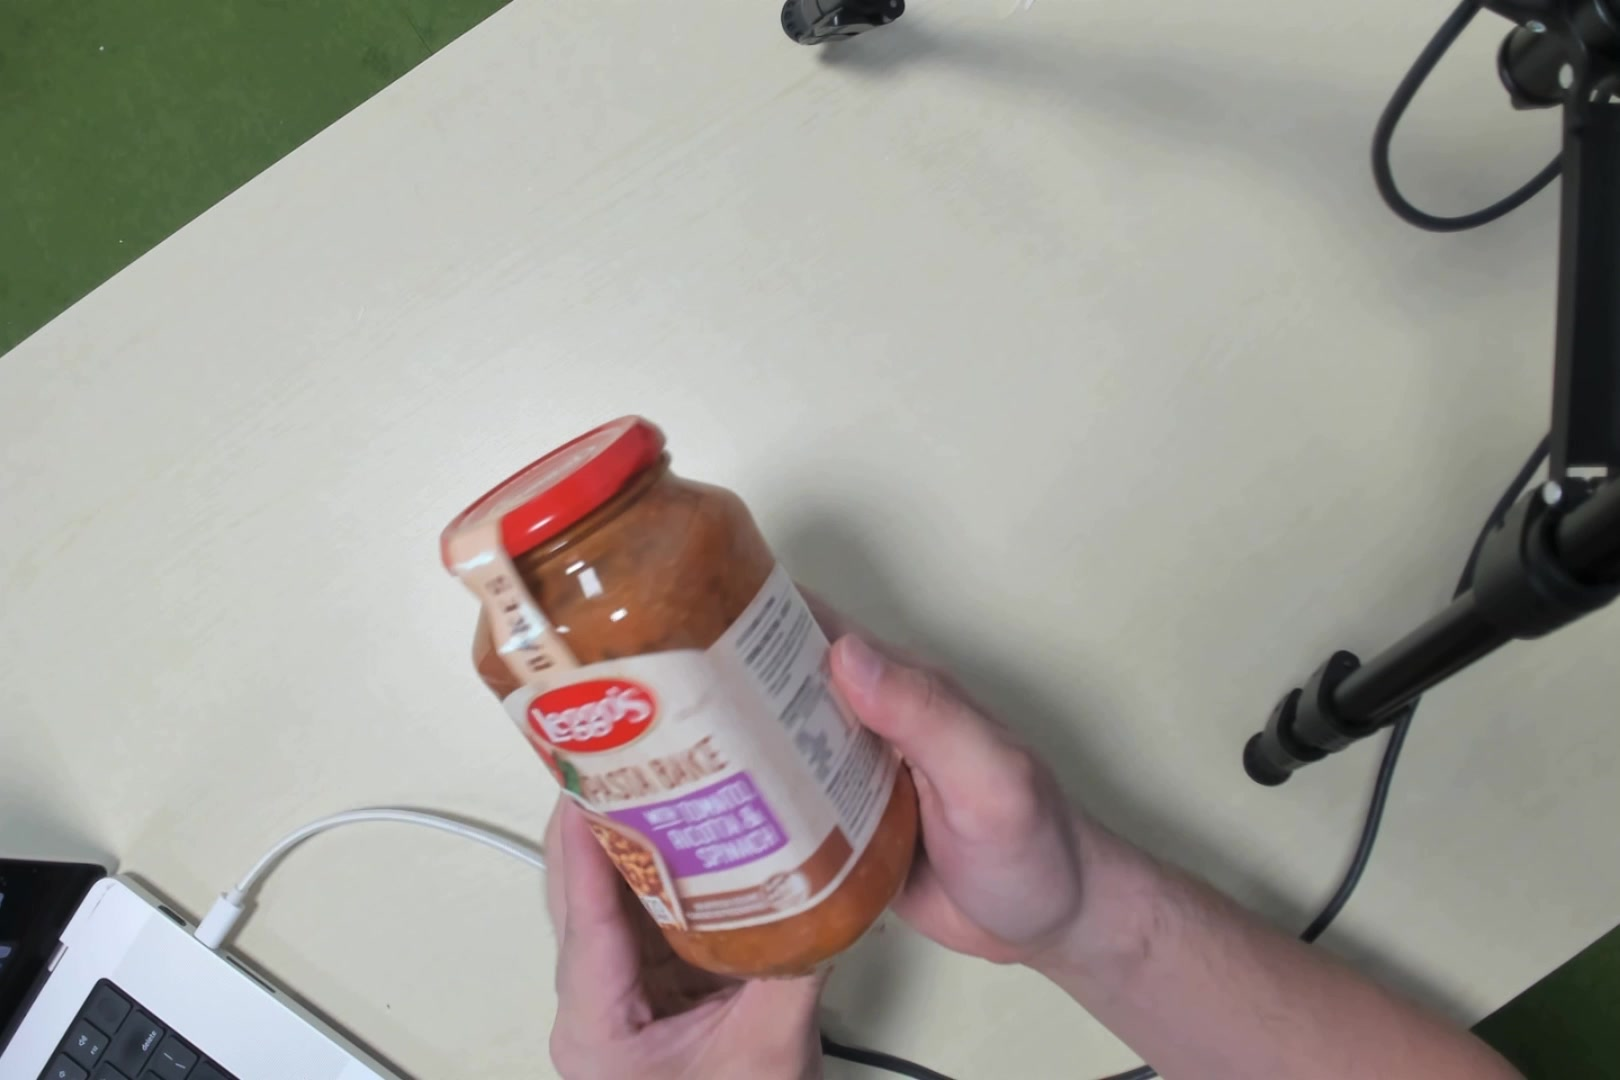Pasta_500-599g_Halal_NonHealthy: (506, 453, 868, 922)
